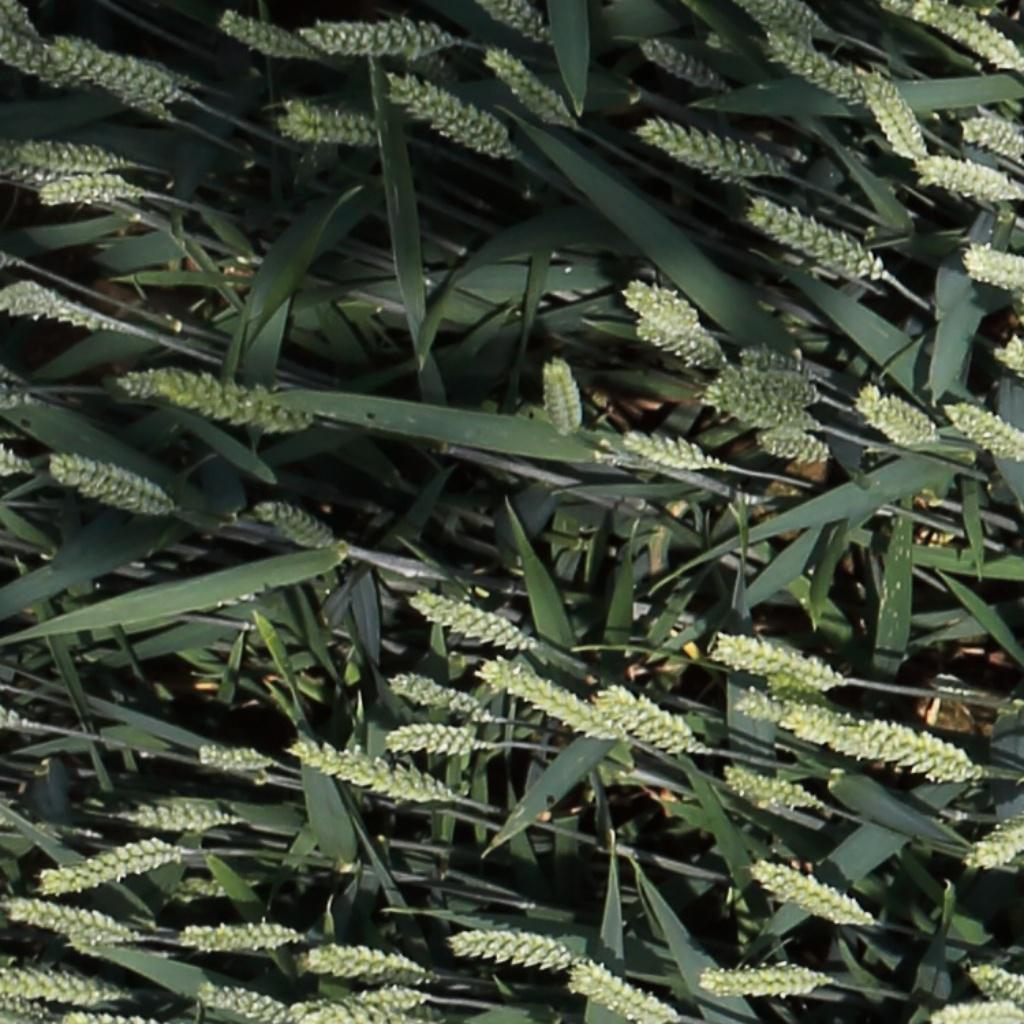0-0: (784, 701, 995, 793), (739, 190, 887, 284), (154, 367, 326, 435), (479, 652, 617, 729), (285, 745, 456, 805), (705, 625, 848, 696), (387, 72, 506, 154), (58, 41, 173, 122), (51, 36, 181, 106), (598, 677, 703, 759), (638, 118, 784, 176), (40, 838, 188, 894), (0, 279, 141, 335), (750, 861, 868, 927), (913, 1, 1022, 69), (297, 20, 467, 63), (481, 47, 570, 128), (409, 591, 527, 652), (571, 958, 679, 1024), (46, 457, 170, 512), (767, 34, 866, 102), (861, 72, 927, 163), (0, 965, 132, 1009), (300, 943, 440, 983), (446, 927, 580, 967), (917, 154, 1024, 204), (704, 382, 813, 431), (5, 902, 133, 943), (726, 683, 828, 734), (276, 101, 385, 148), (633, 309, 719, 368), (1, 30, 84, 91), (695, 962, 833, 998), (723, 766, 826, 814), (12, 134, 129, 175), (215, 10, 309, 61), (943, 402, 1024, 461), (638, 38, 724, 92), (753, 654, 833, 712), (174, 921, 309, 955), (621, 281, 697, 341), (387, 673, 487, 718), (277, 994, 426, 1024), (110, 356, 207, 402), (380, 716, 487, 757), (857, 390, 935, 443), (126, 796, 242, 830), (251, 501, 334, 548), (925, 672, 1021, 712), (622, 432, 723, 470), (193, 984, 292, 1021), (37, 172, 145, 205), (543, 353, 584, 439), (331, 982, 435, 1015), (731, 364, 813, 404), (756, 430, 836, 469), (484, 1, 550, 46), (744, 0, 816, 40), (969, 965, 1024, 1017), (970, 819, 1024, 866), (962, 116, 1024, 154), (962, 249, 1024, 286), (194, 742, 274, 770), (1000, 339, 1024, 413), (737, 349, 804, 374), (0, 0, 36, 40), (0, 996, 51, 1021)
